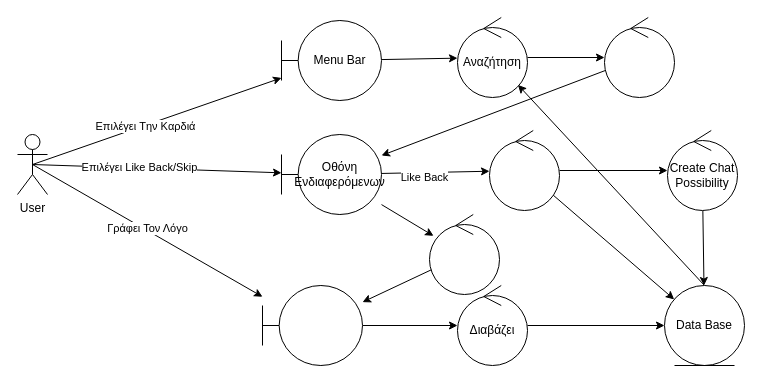
Image size: 762x383. Some labels were removed from this diagram. Here are the shapes that lost their labels. From the top down, the box of each, then its label:
(604, 16, 674, 98): Εμφανίζει
(488, 130, 560, 210): Create A Match
(428, 214, 500, 294): Εμφάνηση Οθόνης Reason
(262, 284, 362, 366): Οθόνη Skip Reason
